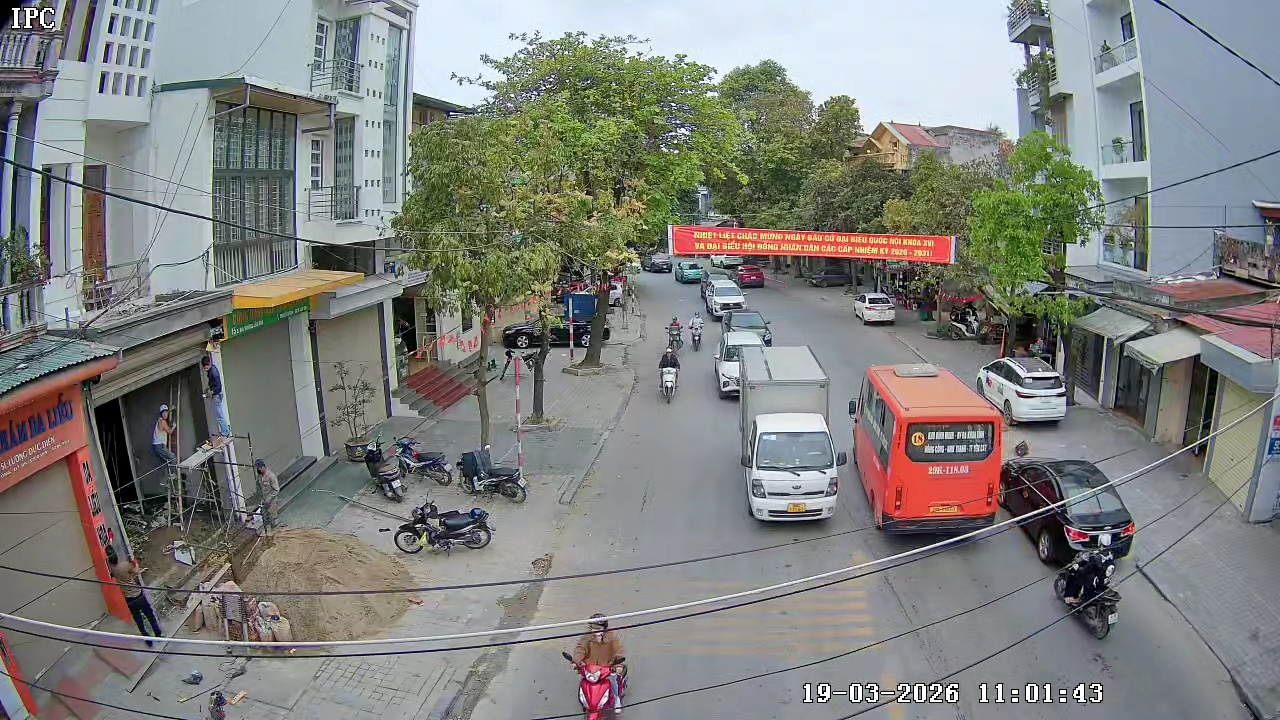bus: (847, 361, 1000, 532)
car: (740, 343, 842, 525), (1002, 438, 1136, 565), (976, 354, 1067, 428), (722, 309, 775, 348), (714, 343, 746, 401), (703, 282, 747, 320), (855, 292, 897, 327), (736, 261, 767, 289)
motorbike: (561, 611, 631, 719), (393, 492, 496, 555), (1066, 535, 1123, 640), (456, 439, 530, 503), (657, 350, 680, 403), (665, 317, 682, 352), (688, 314, 703, 352)
truck: (741, 345, 843, 525)
